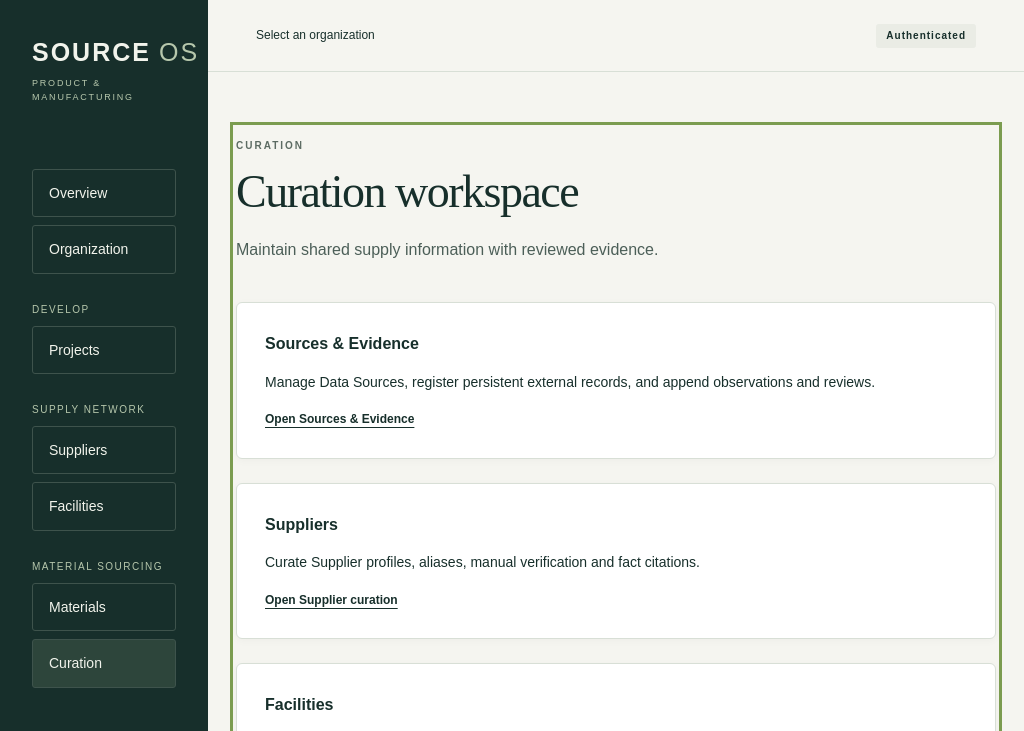
ADMIN landing exposes exactly Sources, Suppliers and Facilities tools and nested entry refresh
Step 1. Click the link "Open Supplier curation" → x=331, y=600, box [265,593,398,607]
(page scrolled)
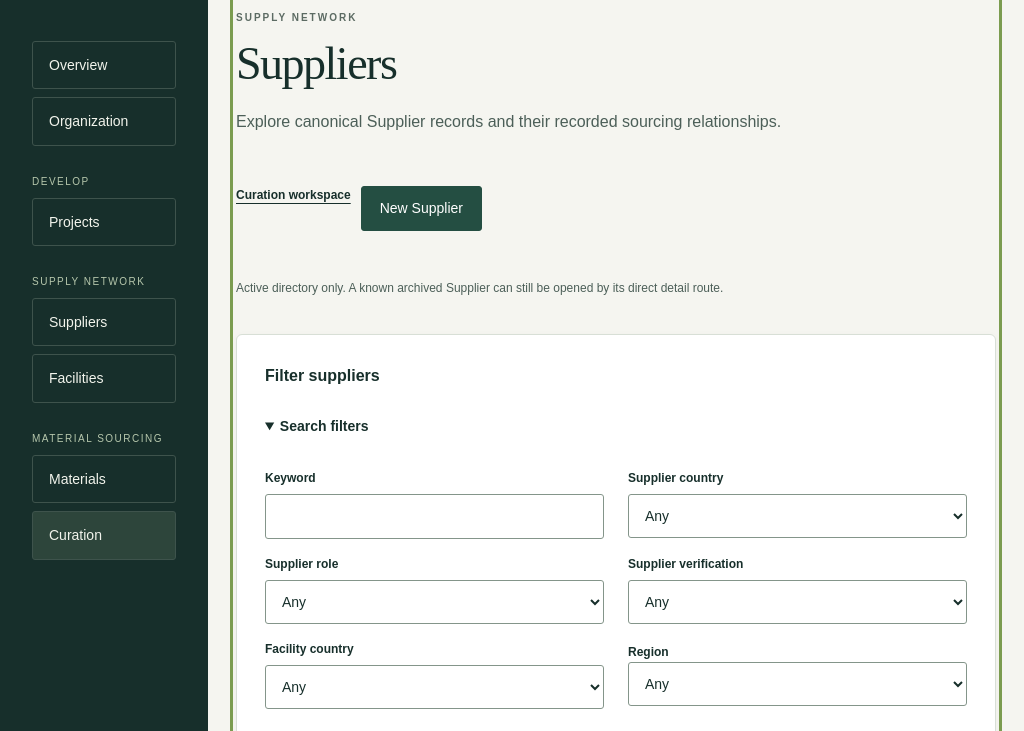
Expected: the button "New Supplier" is shown, [361,186,482,231]
